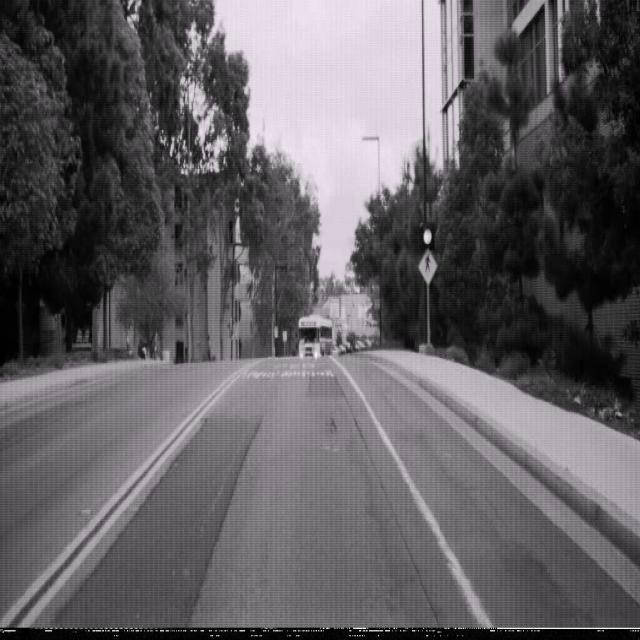pedestrianCrossing: (418, 247, 438, 286)
